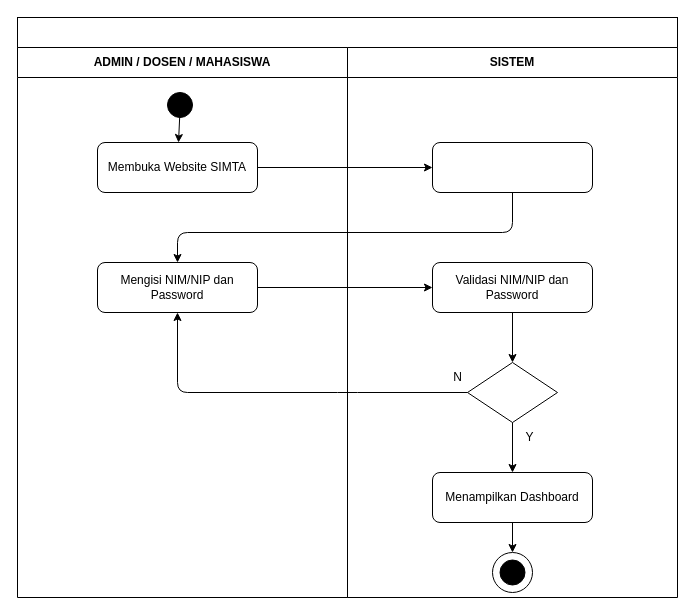
This 695x615 diagram has some shape labels left out. The shapes that lost their labels are listed below. From the top down, each one's box as (x1, y1, x2, y2) in pixels, then its label:
(16, 16, 678, 48): LOGIN
(432, 142, 592, 192): Menampilkan Halaman Login
(466, 362, 558, 422): Data Valid?
